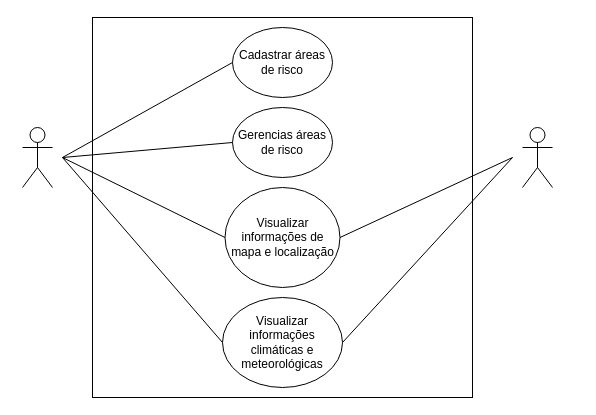
The diagram is 596 pixels wide and 415 high, and some of its shapes have lost their labels. The shapes that lost their labels are listed below. From the top down, each one's centre as x and y in pixels, then its label:
At (x=37, y=157): "Usuário".
At (x=537, y=157): "Sistema e APIs (Open Weather e InMetro)".
